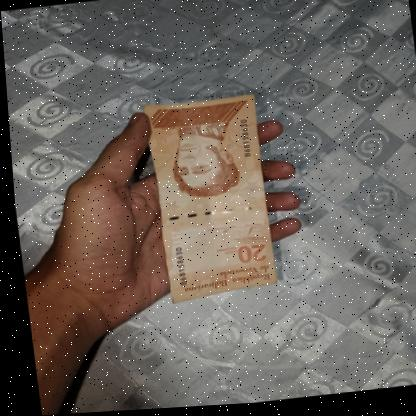twenty-front-vef: (141, 96, 274, 305)
